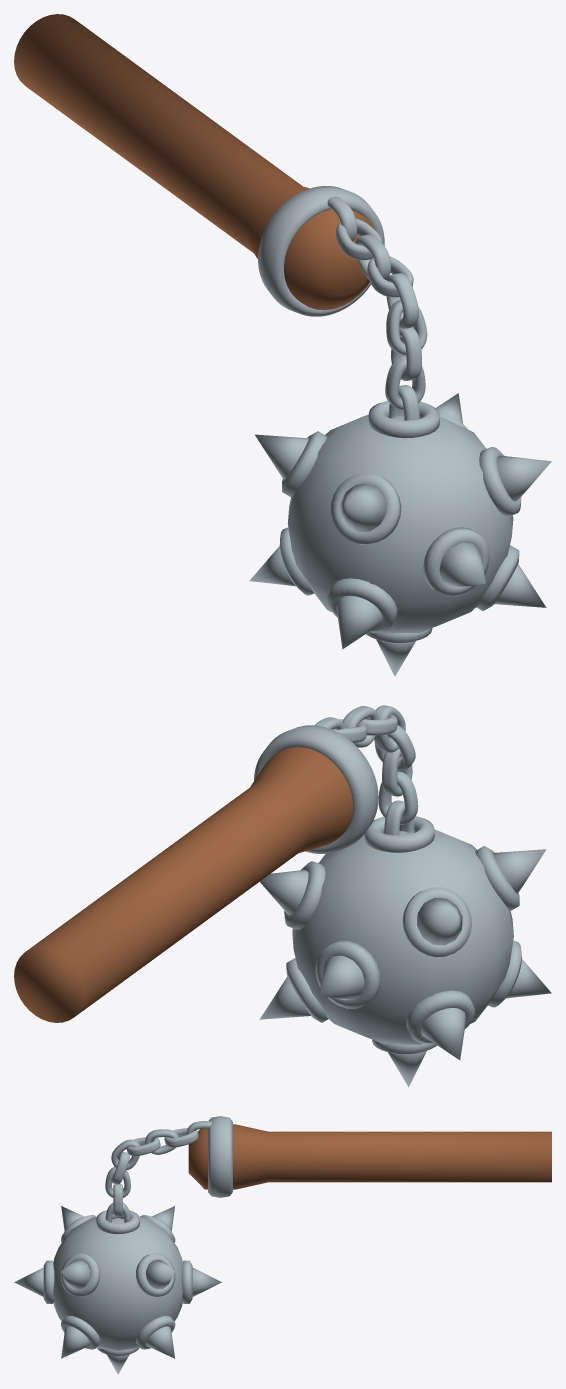
File: mass.glb
3 views of the same model, one above another, from view 1: azimuth 30°, elevation 25°; view 2: azimuth 150°, elevation 25°; view 3: azimuth 270°, elevation 25° (orthographic). The views are drawn at different scales.
Parts seen in each view (by area): view 1: mass; view 2: mass; view 3: mass.
Boxes of the visible parts, bbox=[...] form: mass: bbox=[14, 14, 551, 676]; mass: bbox=[14, 705, 551, 1087]; mass: bbox=[14, 1116, 551, 1374].
Size of the model in its own units: 0.4407 by 0.8498 by 1.6.
